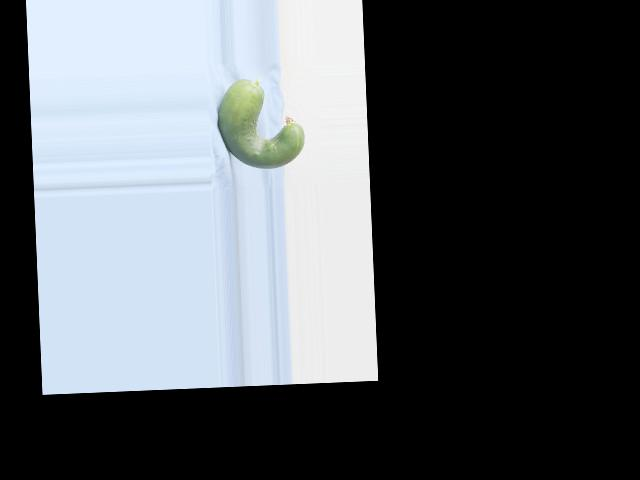cucumber: (216, 76, 305, 170)
